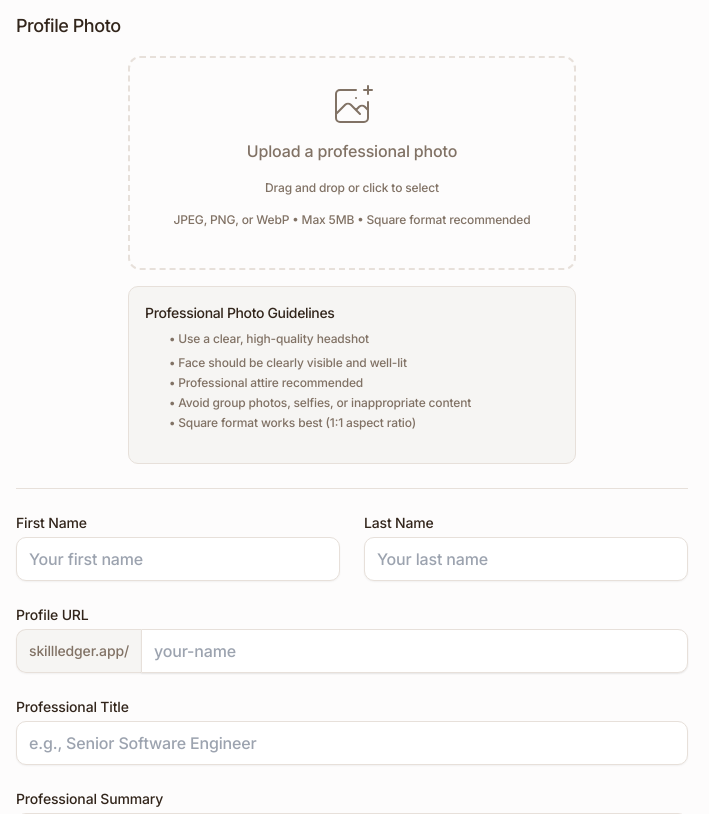
Test: EnhancedProfileCreationForm › Slug Availability Checking › should show checking message while validating slug
In the field labelled "Profile URL": (414, 651) 141,629 -> 688,673, type "johndoe"
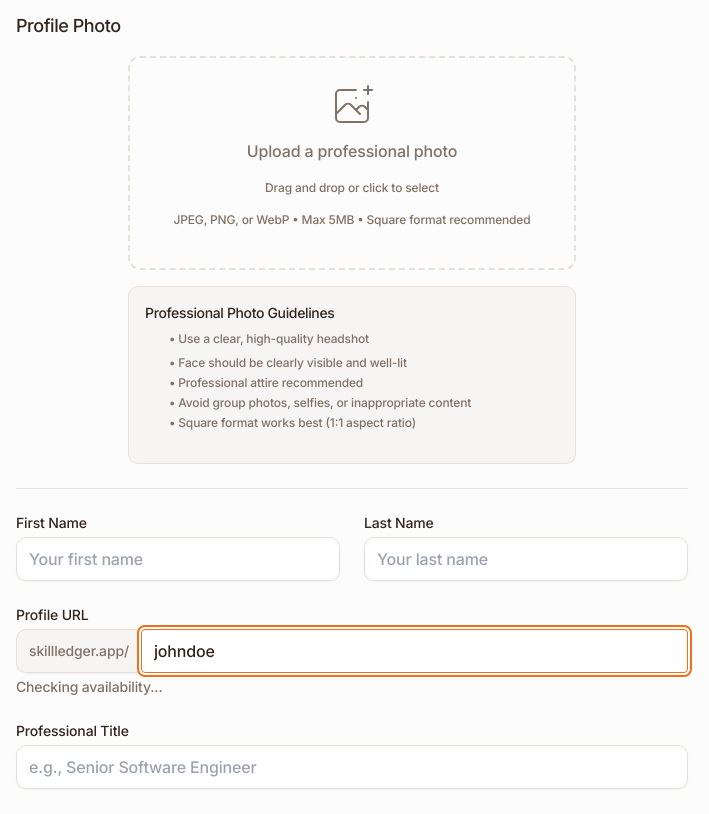
Expected: the text "Checking availability..." is shown, 16,678 -> 162,695
